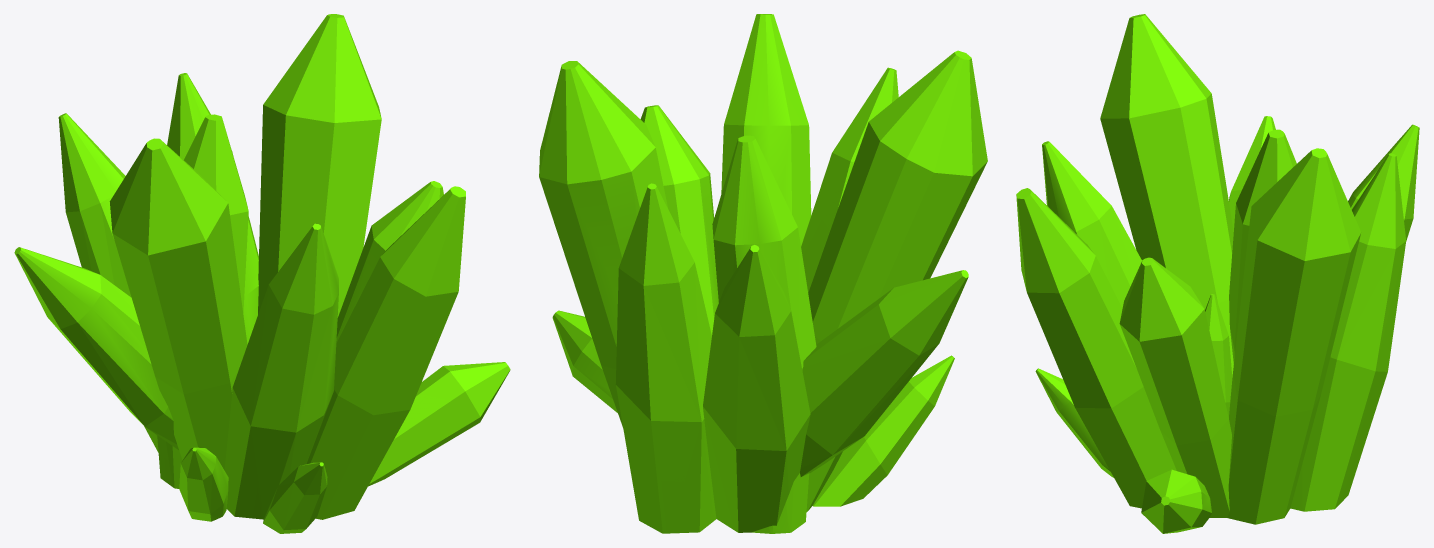
The model's file is Prop_Crystal_Green_01.fbx.
3 renders of one model, left to right at view 1: azimuth 30°, elevation 25°; view 2: azimuth 150°, elevation 25°; view 3: azimuth 270°, elevation 25°, orthographic. The views are drawn at different scales.
Parts seen in each view (by area): view 1: Prop_Crystal_Green_01; view 2: Prop_Crystal_Green_01; view 3: Prop_Crystal_Green_01.
Part boxes in pixels (bbox=[...]): Prop_Crystal_Green_01: bbox=[14, 14, 510, 533]; Prop_Crystal_Green_01: bbox=[539, 14, 987, 533]; Prop_Crystal_Green_01: bbox=[1016, 14, 1419, 533].
Size of the model in its own units: 1264 by 1133 by 1034.
